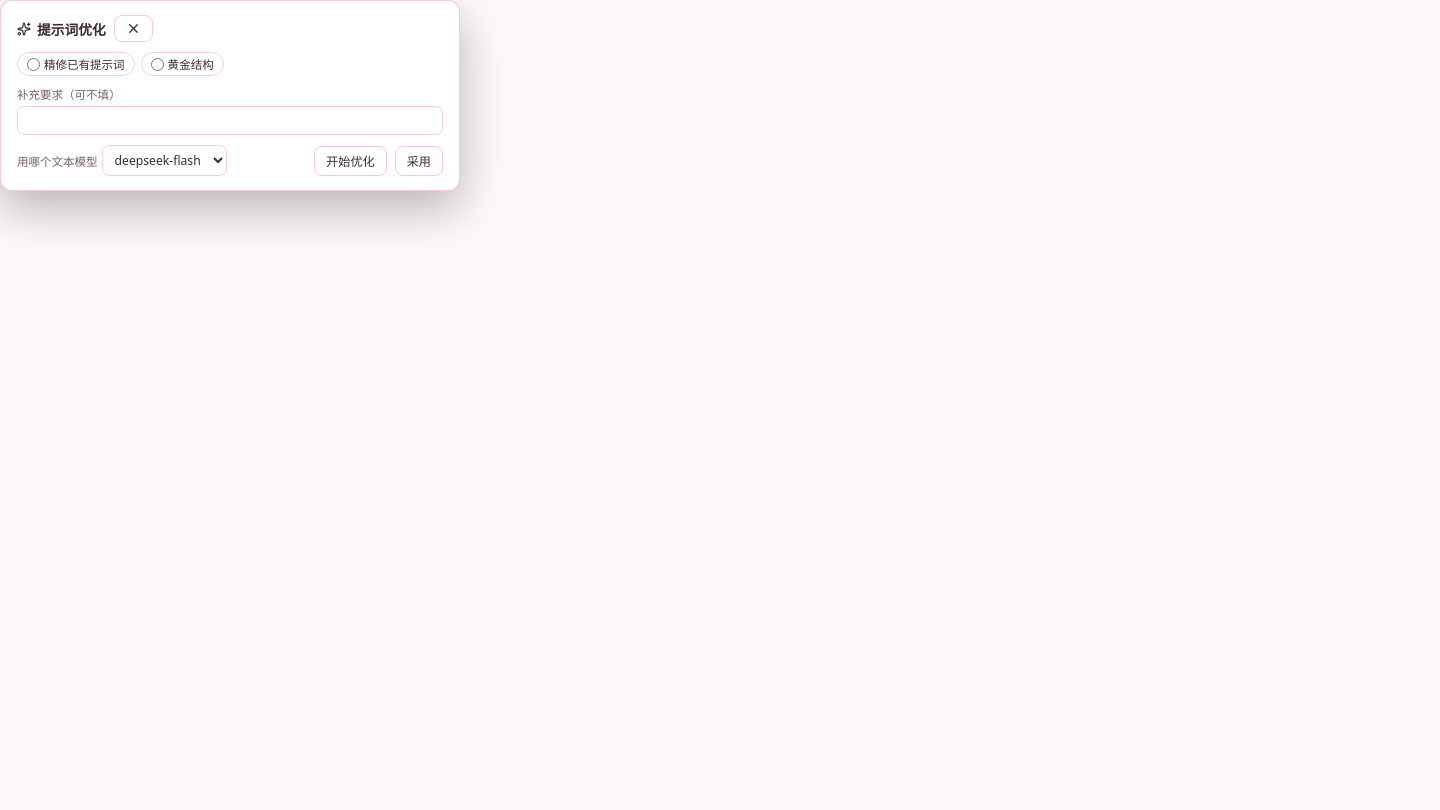
the eight-part structure mode in the prompt optimizer › lists what the rule check found wrong instead of the summary
What coordinates should you click on to do the following:
click the radio button labelled "黄金结构"
I would click on:
 (157, 64)
Its box is top-left (151, 58), bottom-right (164, 70).
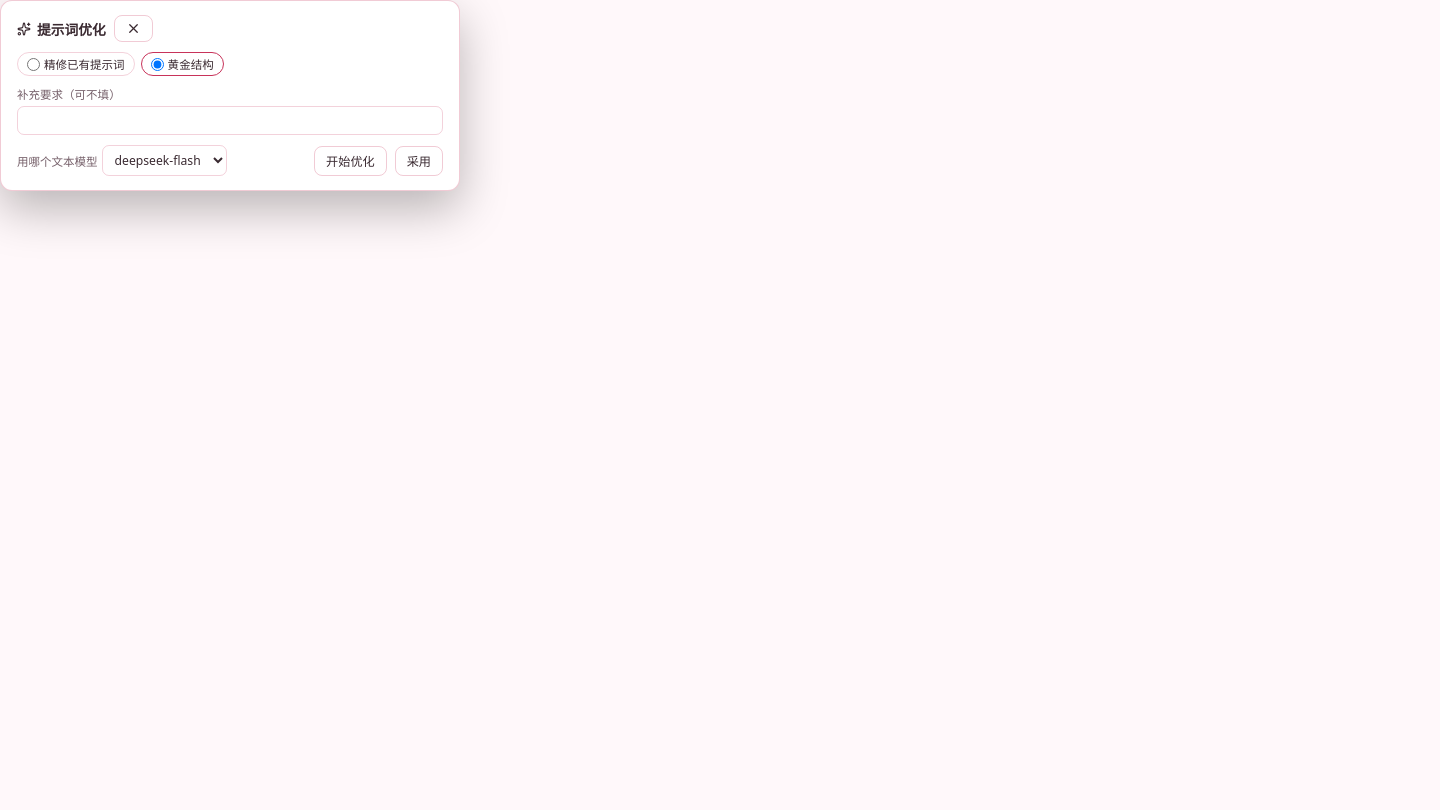
What coordinates should you click on to do the following:
click the button "开始优化"
I would click on:
 (350, 160)
Its box is top-left (314, 146), bottom-right (387, 176).
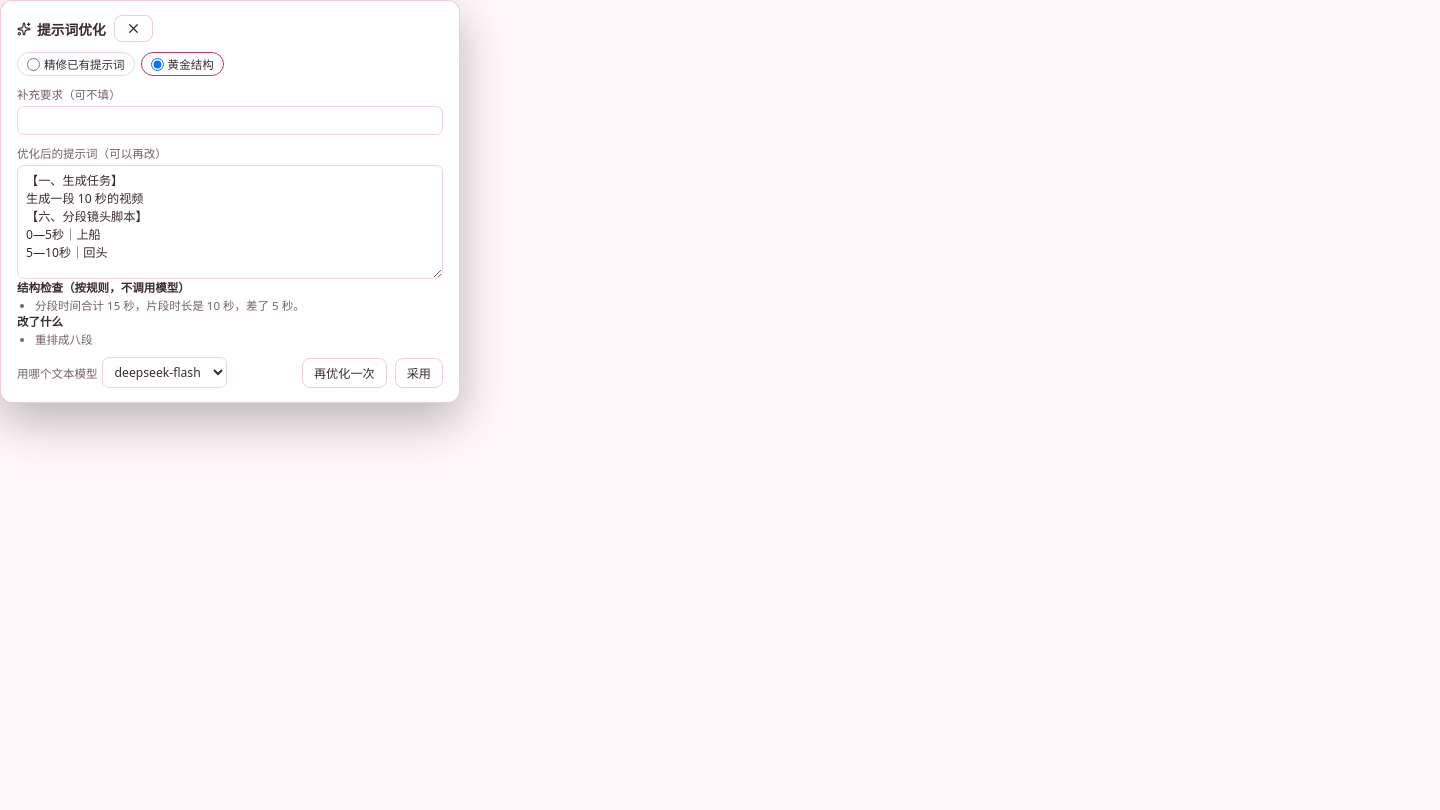
Expected: the list item "分段时间合计 15 秒，片段时长是 10 秒，差了 5 秒。" is shown, top-left (35, 298), bottom-right (305, 313)
Expected: the text "结构检查（按规则，不调用模型）" is shown, top-left (17, 280), bottom-right (190, 295)
